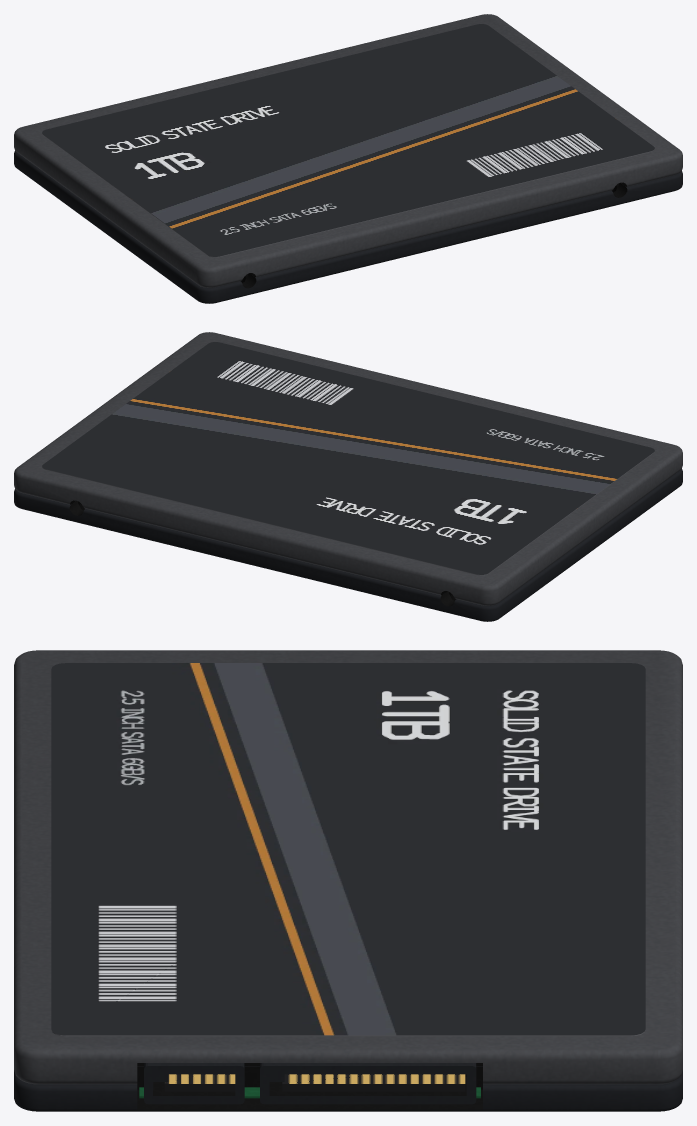
The model's file is ssd-sata.glb.
3 renders of one model, top to bottom at view 1: azimuth 30°, elevation 25°; view 2: azimuth 150°, elevation 25°; view 3: azimuth 270°, elevation 25°, orthographic. The views are drawn at different scales.
Visible parts, largest first — view 1: Label, Top cover, Bottom shell; view 2: Label, Top cover, Bottom shell; view 3: Label, Top cover, Bottom shell, SATA connector housings, SATA contact blades.
Boxes of the visible parts, x1,y1,x2,y2 form: Label: (42,24,654,257); Top cover: (14,14,682,287); Bottom shell: (14,151,682,303); Label: (42,342,654,575); Top cover: (14,332,682,605); Bottom shell: (14,469,682,621); Label: (51,663,645,1036); Top cover: (14,650,682,1084); Bottom shell: (14,1066,682,1111); SATA connector housings: (144,1063,476,1104); SATA contact blades: (164,1074,465,1091).
Size of the model in its own units: 0.1 by 0.0071 by 0.0699.
Materials: 8 (7 with a texture image).
